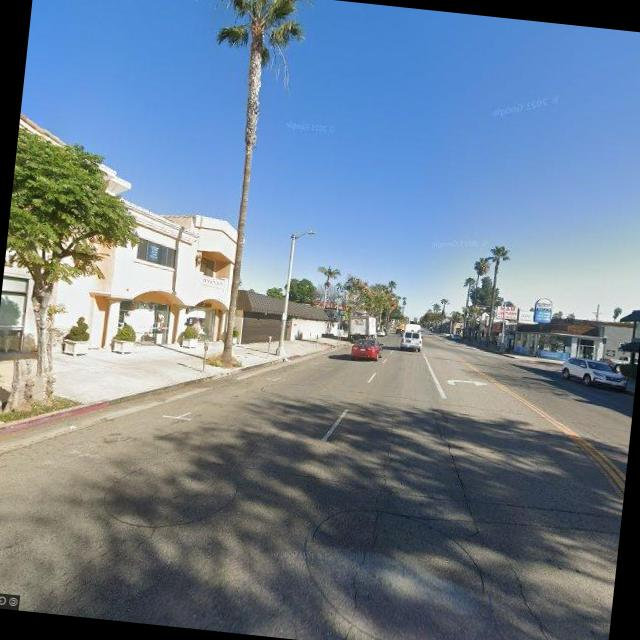pothole: (495, 551, 563, 640)
